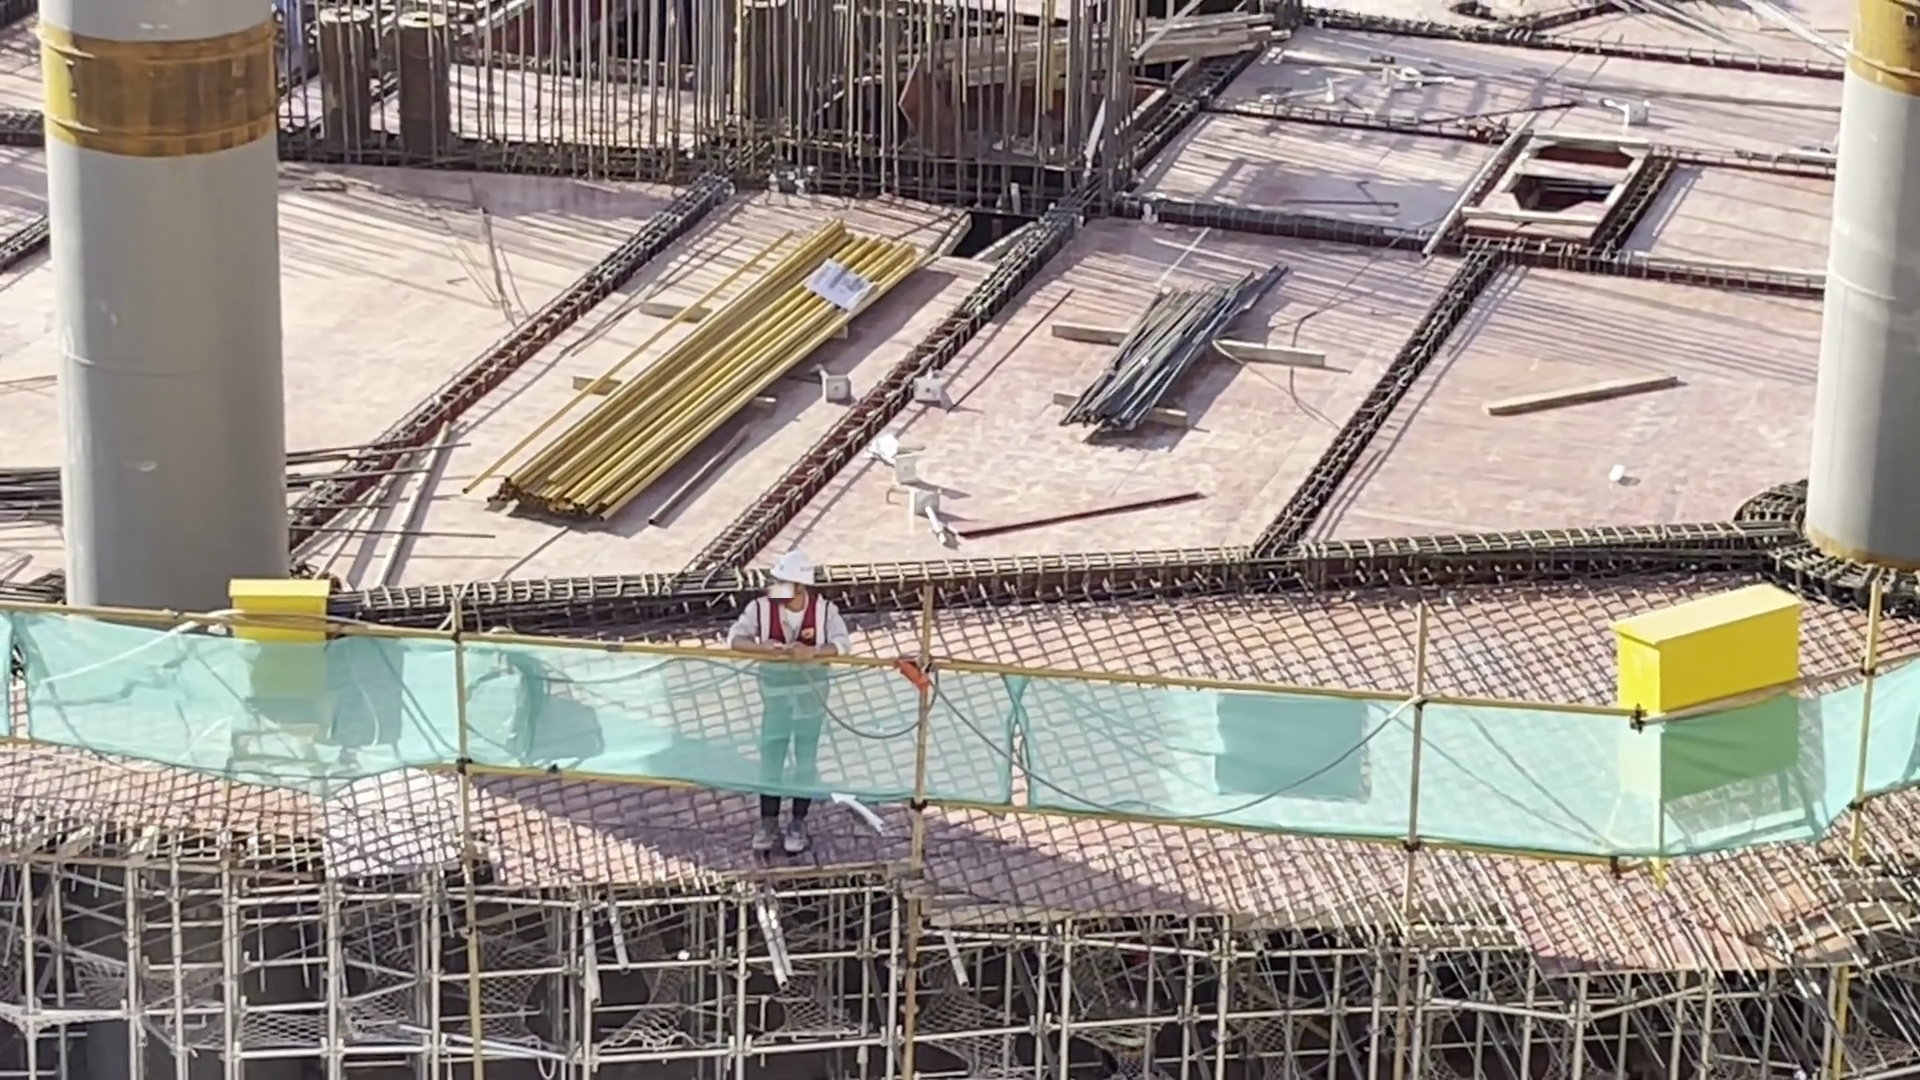helmet: (763, 552, 816, 587)
person: (749, 543, 826, 846)
vest: (753, 597, 827, 713)
